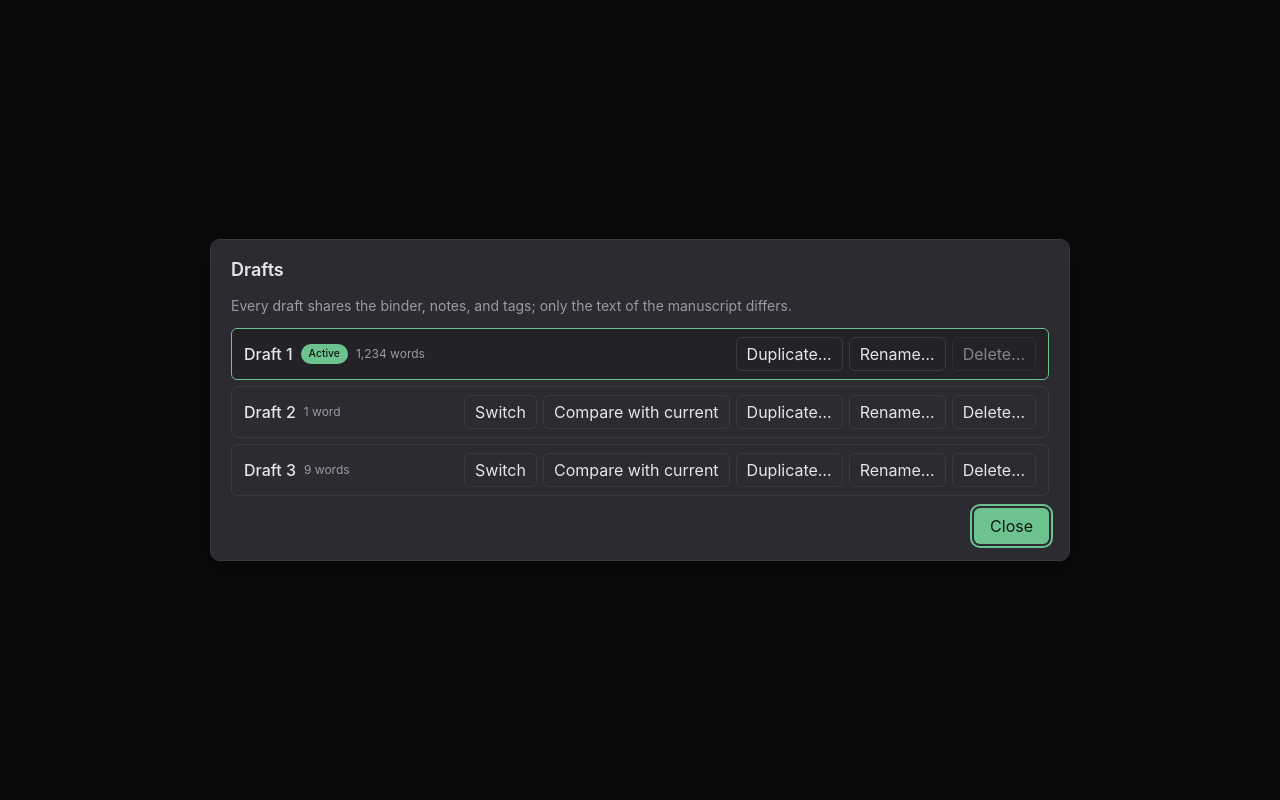
DraftsDialog (F-8.5) › asks for two different drafts and offers no revert between two inactive ones
Click the button with aria-label "Compare Draft 2 with current": coordinates (636, 412) [543,395,730,429]
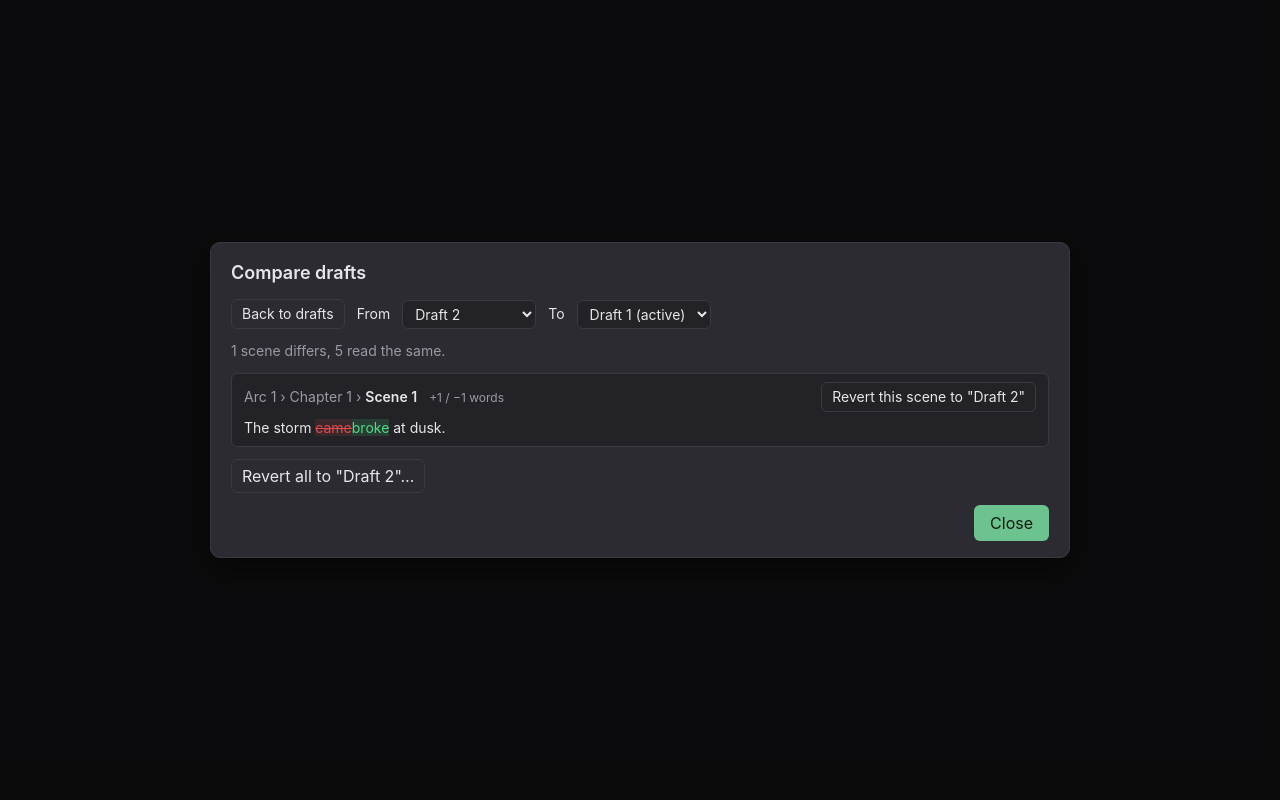
Select "Draft 2" in the dropdown labelled "To": coordinates (644, 314) [577,300,711,328]
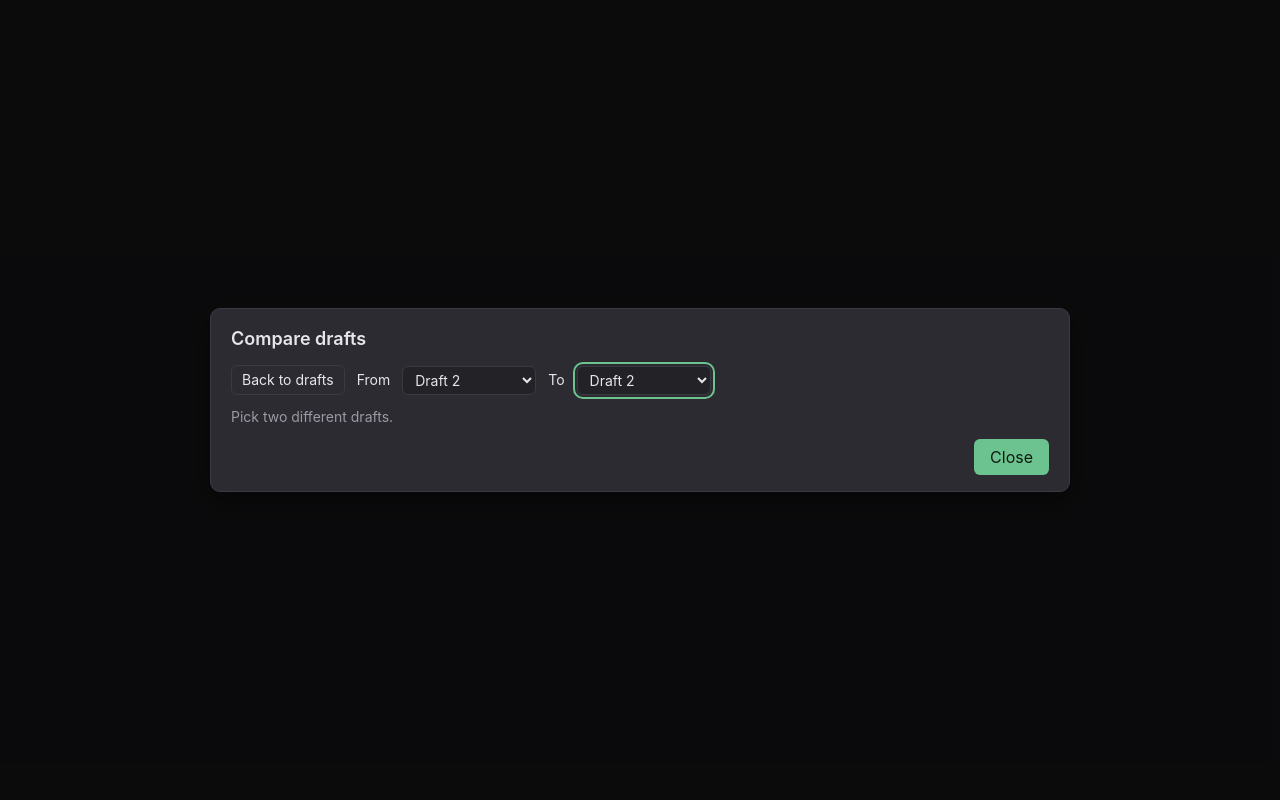
Check: the text "Pick two different drafts." is shown, box [231,408,393,425]
Select "Draft 3" in the dropdown labelled "To": coordinates (644, 380) [577,366,711,394]
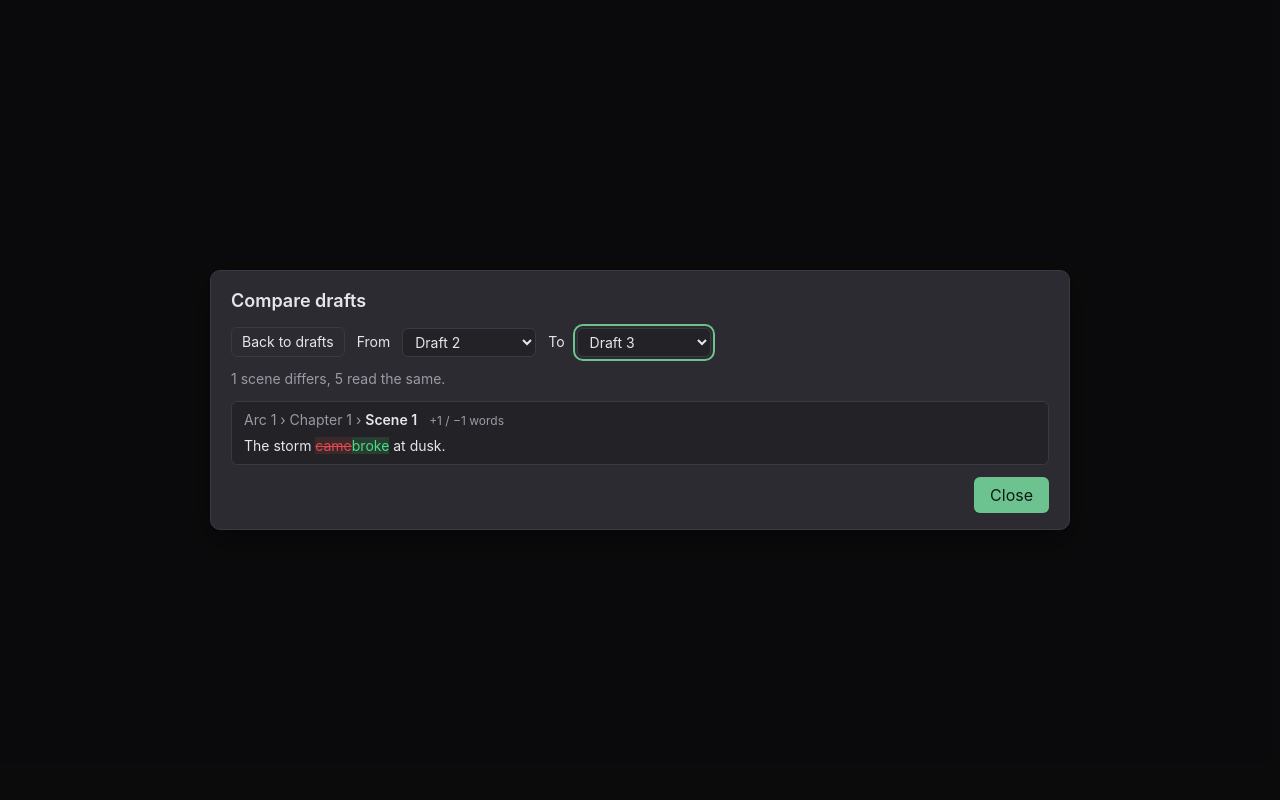
Check: the button "Revert" is not shown
Check: the element "Scene 1" is shown, box [231,401,1049,465]
